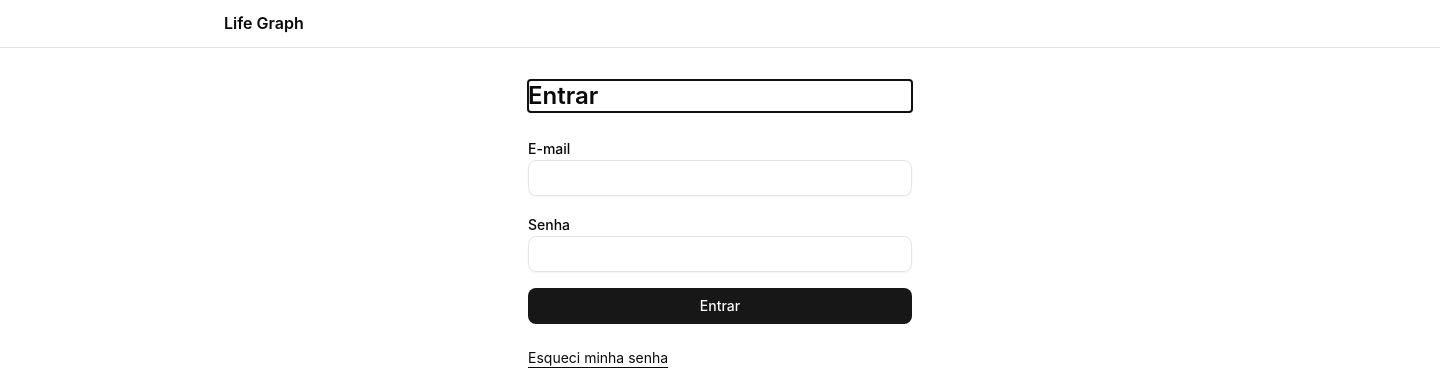
Test: session › returns to the requested page after login
In the field labelled "E-mail": point(720, 178) [528,160,912,196], type "ada@example.test"
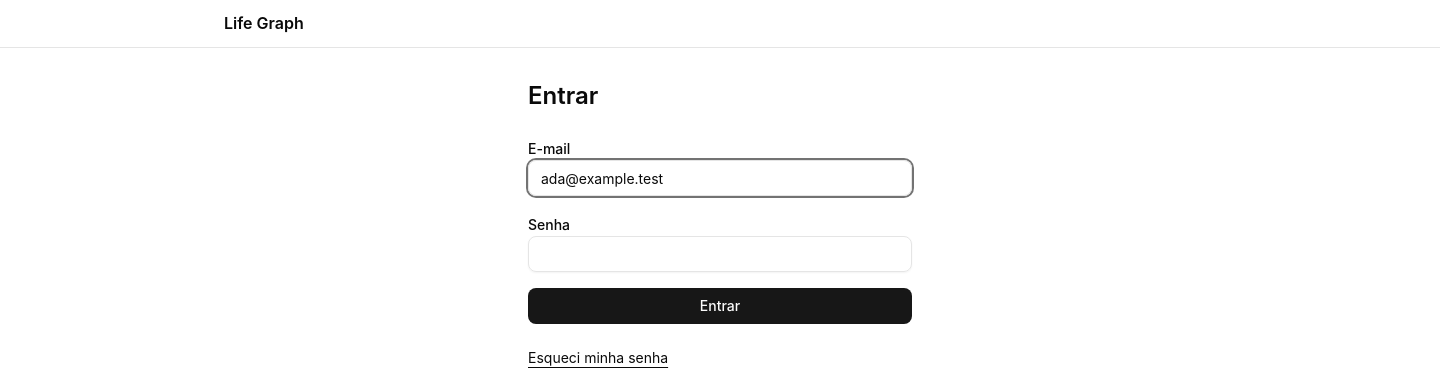
In the password field labelled "Senha": point(720, 254) [528,236,912,272], type "correct horse battery staple"
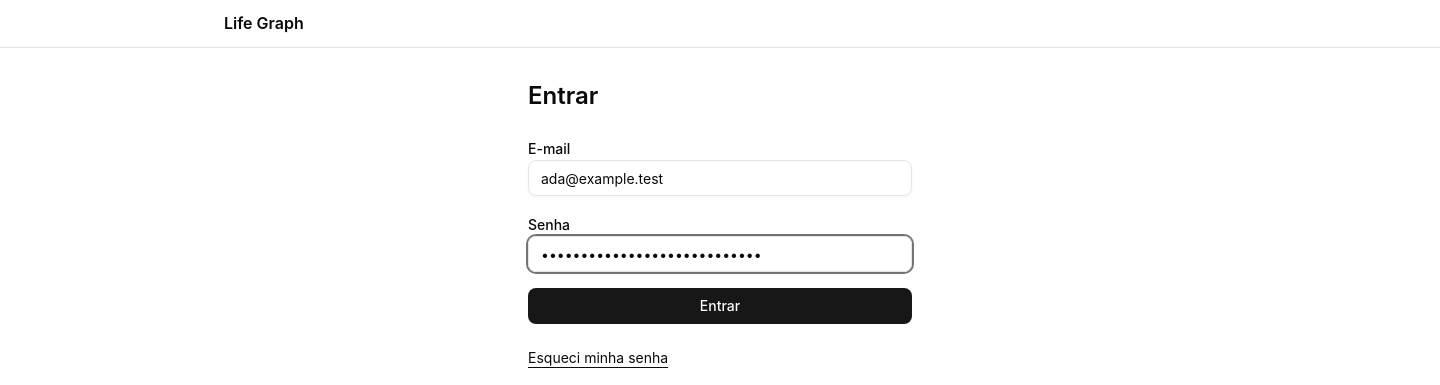
Click the button "Entrar": point(720, 306) [528,288,912,324]
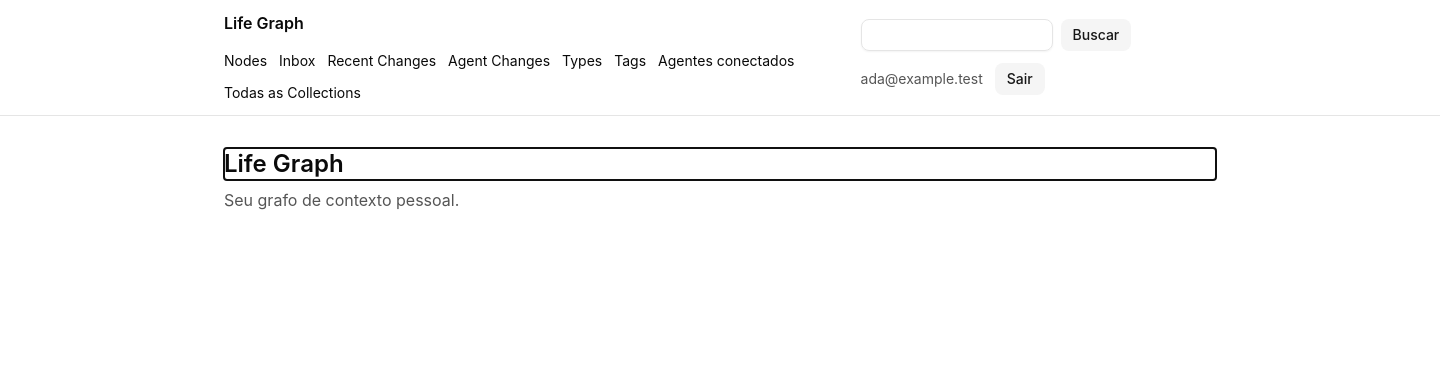
Now the heading "Life Graph" is shown, box [224,149,344,178]
Now the text "ada@example.test" is shown, box [860,69,983,89]
